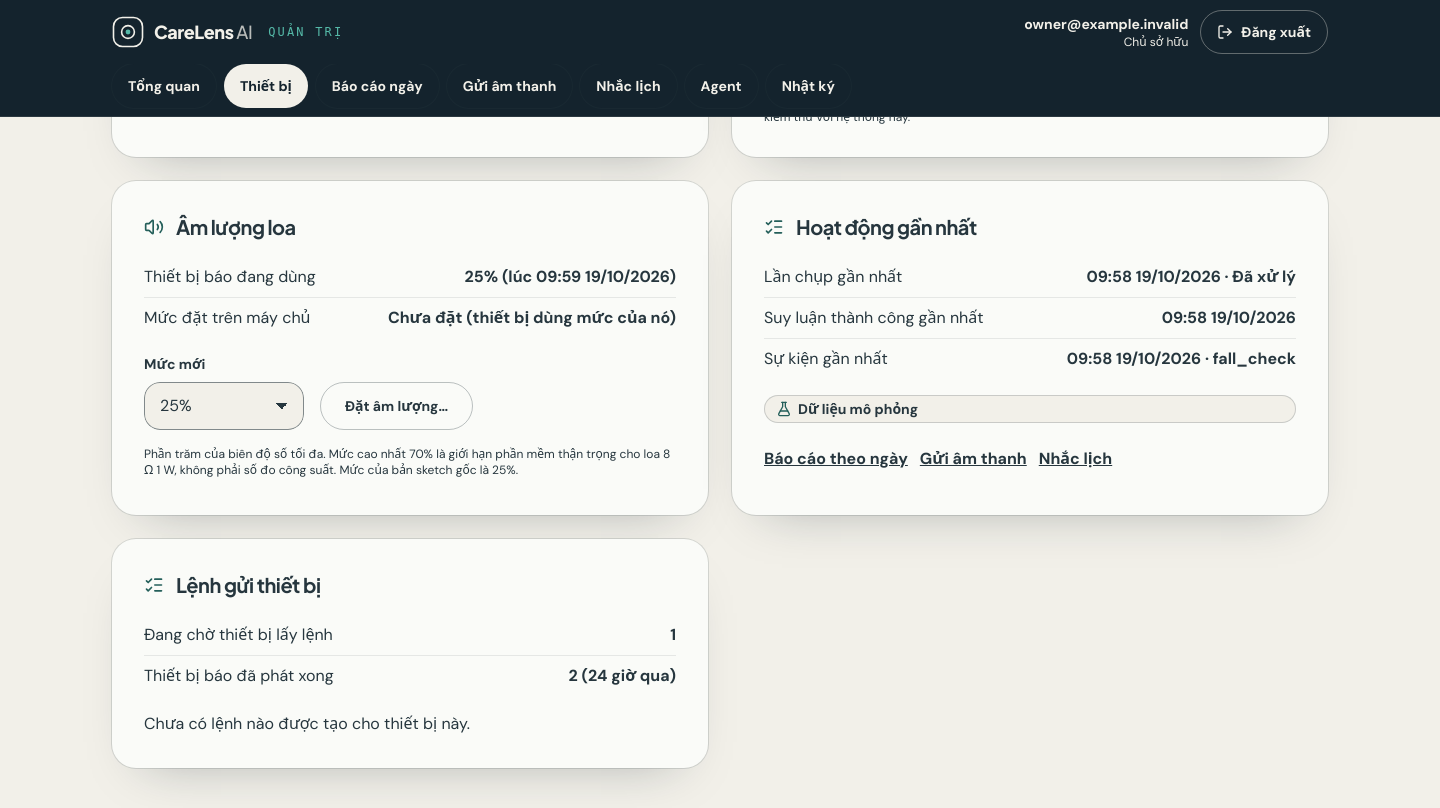
Test: speaker volume › shows the set value and the device's own report apart, and changes the volume only after confirmation
The image size is (1440, 808).
(page scrolled)
Check: the text "25% (lúc 09:59 19/10/2026)" is shown, box [464,264,676,288]
Check: the text "Chưa đặt (thiết bị dùng mức của nó)" is shown, box [388,306,676,330]
Select "45%" in the dropdown labelled "Mức mới" at (224, 406), box [144,382,304,430]
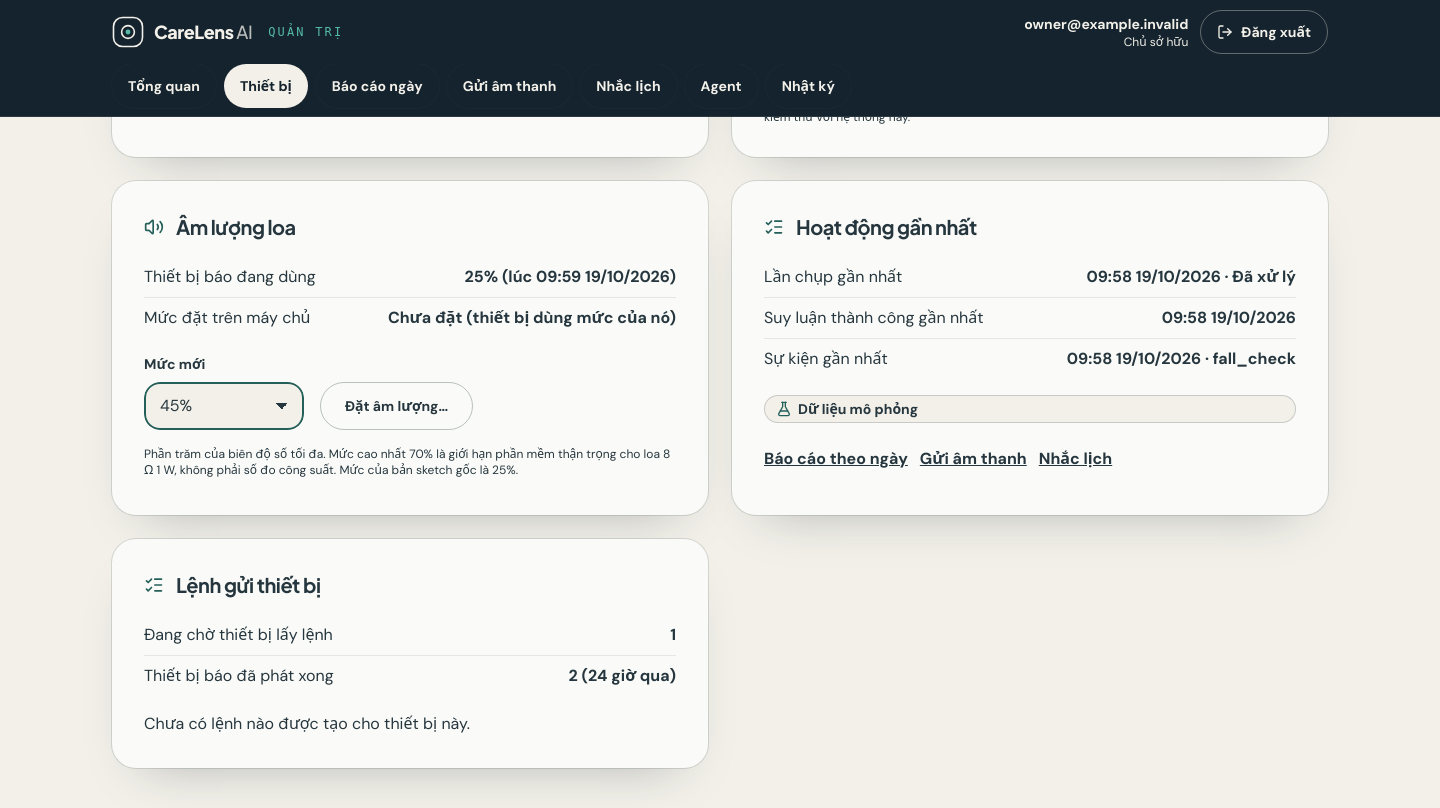
Click the button "Đặt âm lượng…" at (396, 406), box [320,382,473,430]
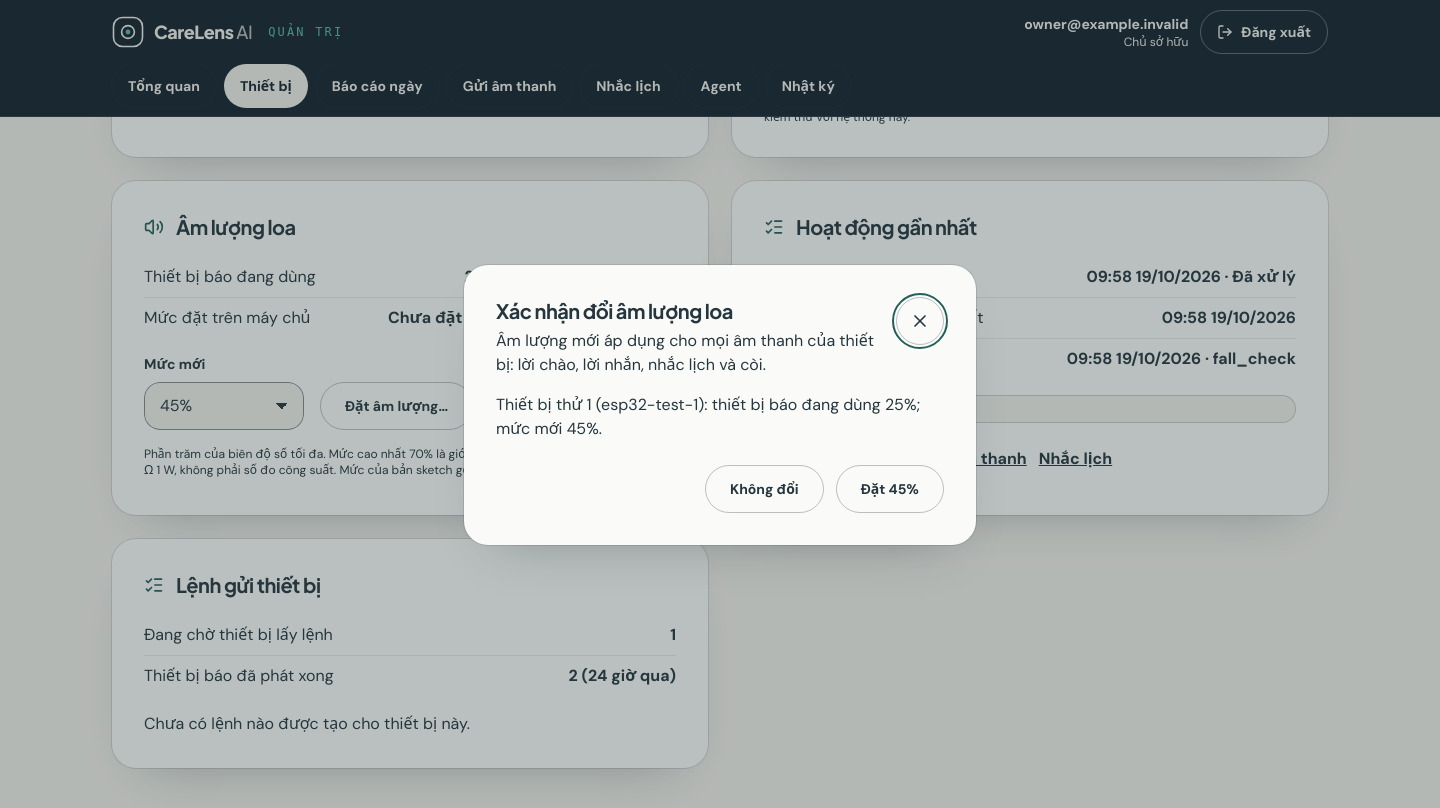
Click the button "Đặt 45%" at (890, 489), box [836,465,944,513]
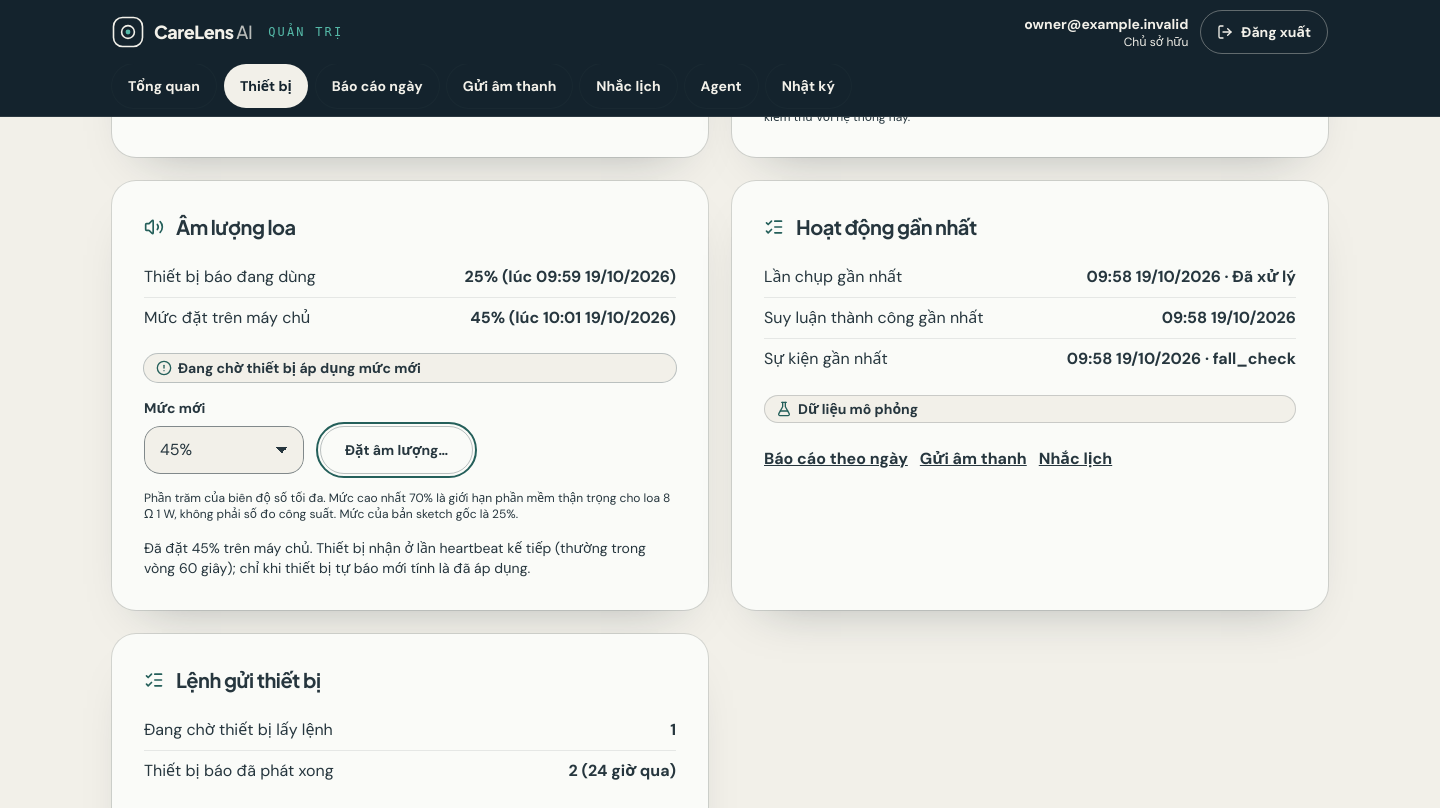
Check: the text "Đã đặt 45% trên máy chủ" is shown, box [144,538,646,576]
Check: the text "Đang chờ thiết bị áp dụng mức mới" is shown, box [178,358,421,378]
